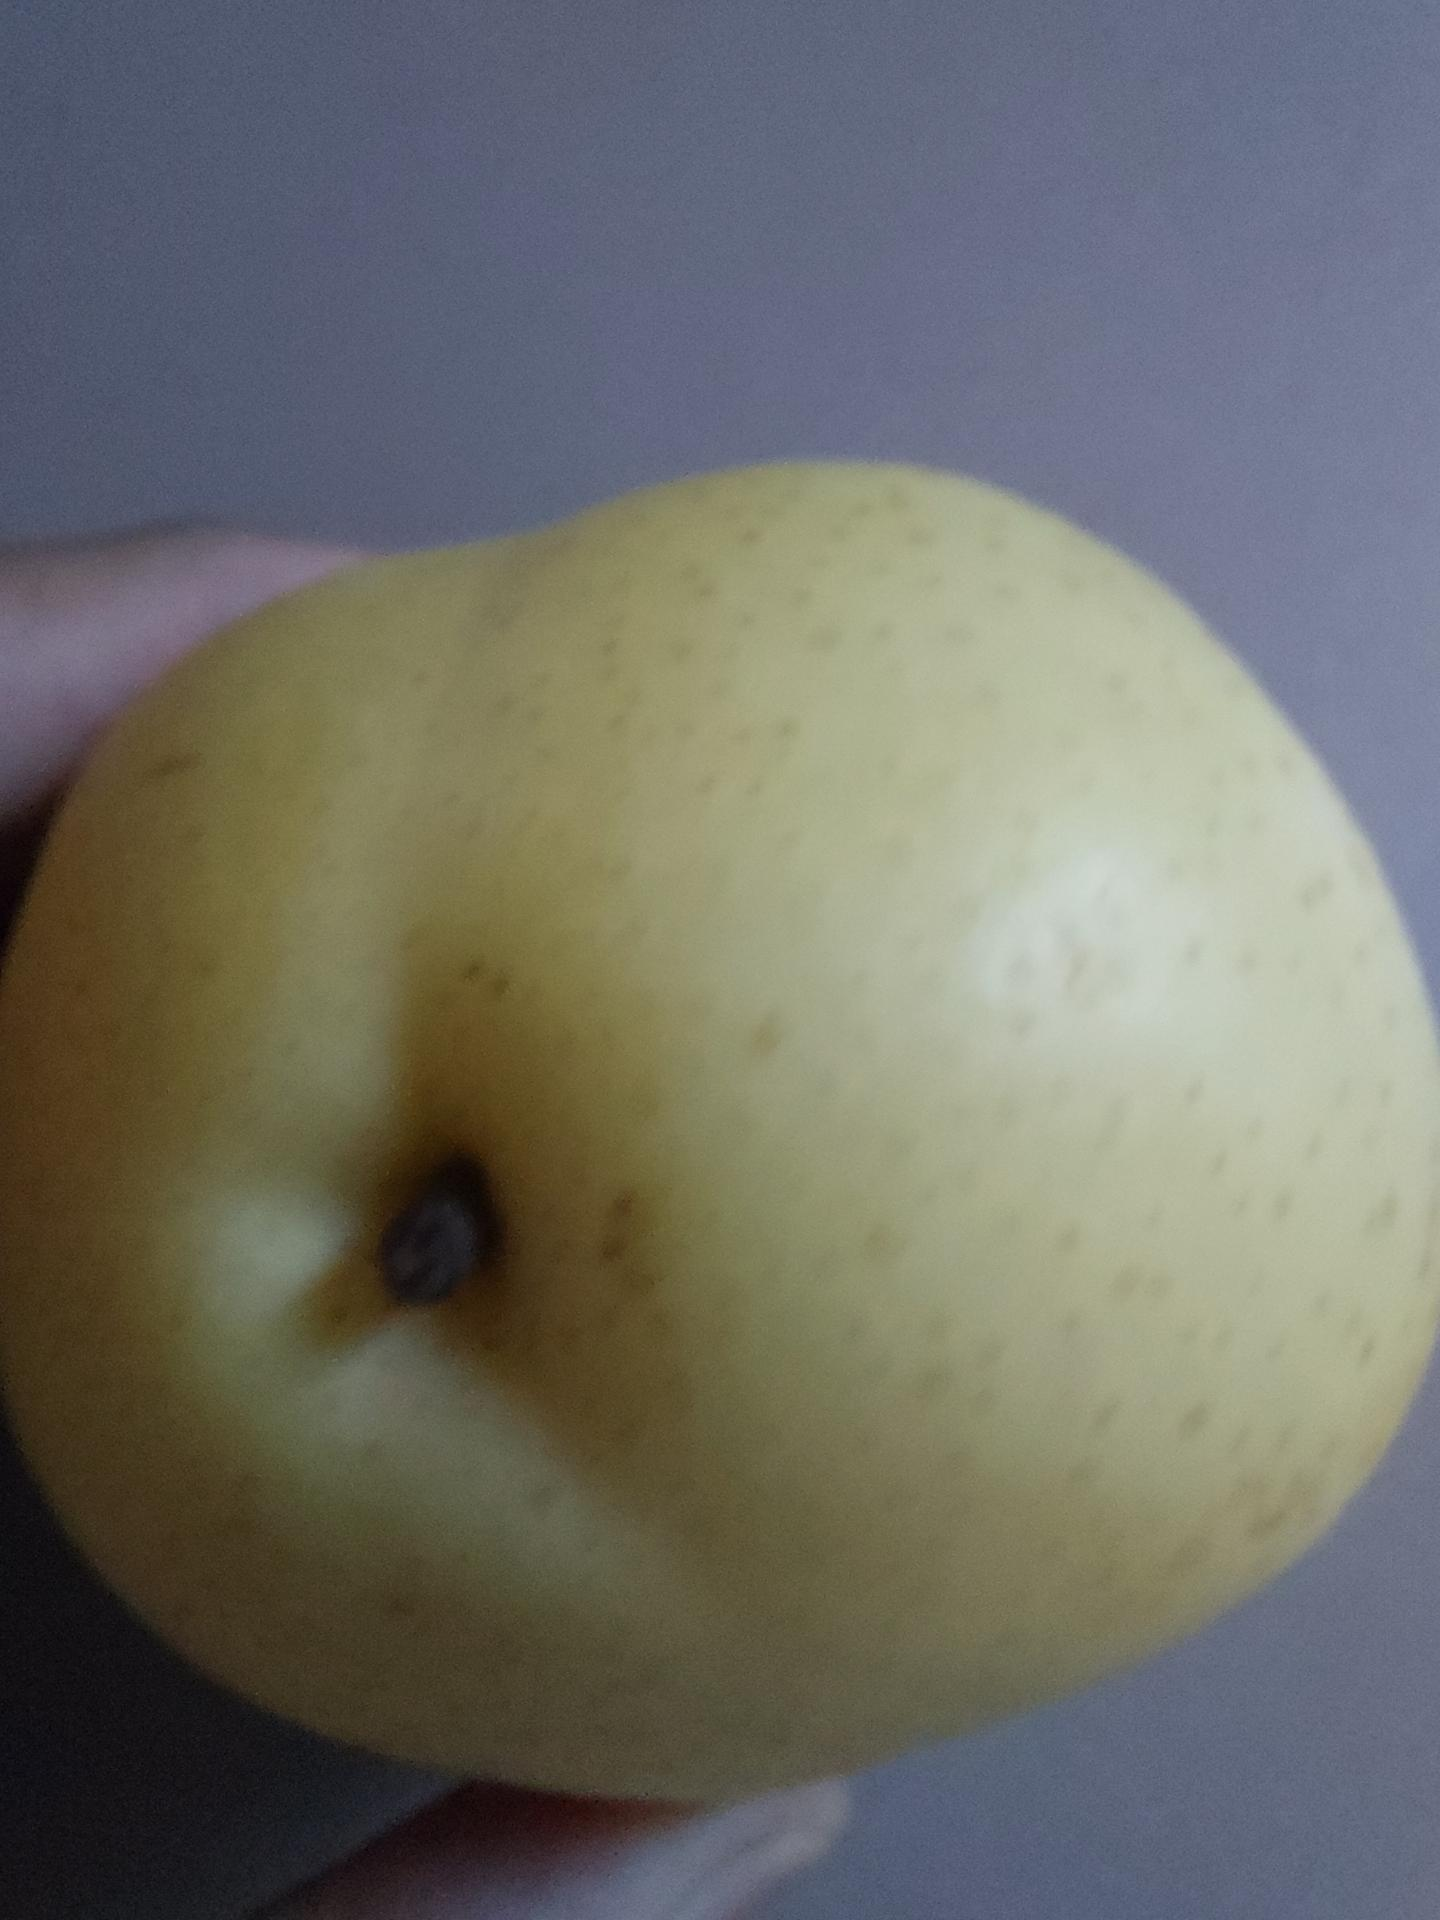Good Pear: (0, 461, 1440, 1788)
